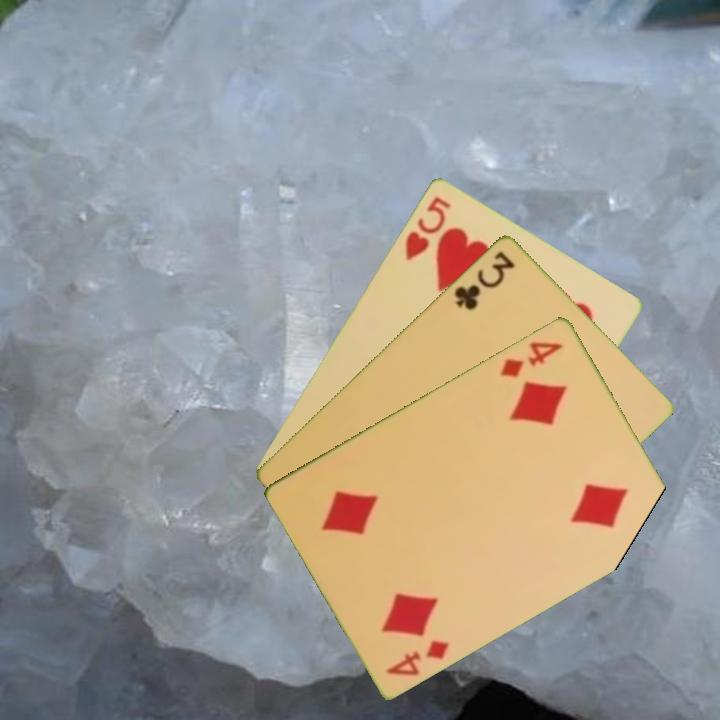3c: (451, 247, 518, 313)
4d: (496, 337, 566, 380), (383, 636, 452, 678)
5h: (401, 192, 454, 263)
